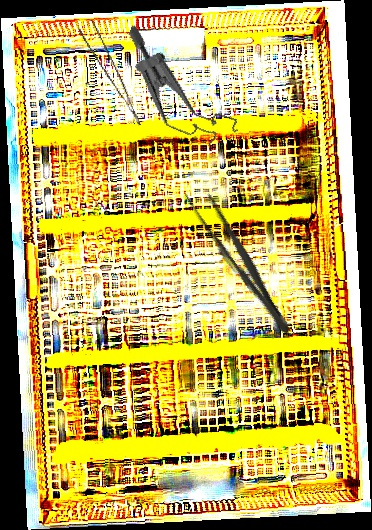Dressing Forceps: (180, 181, 300, 342)
Speculum: (100, 24, 260, 155)
Tissue Forceps: (77, 17, 141, 133)
